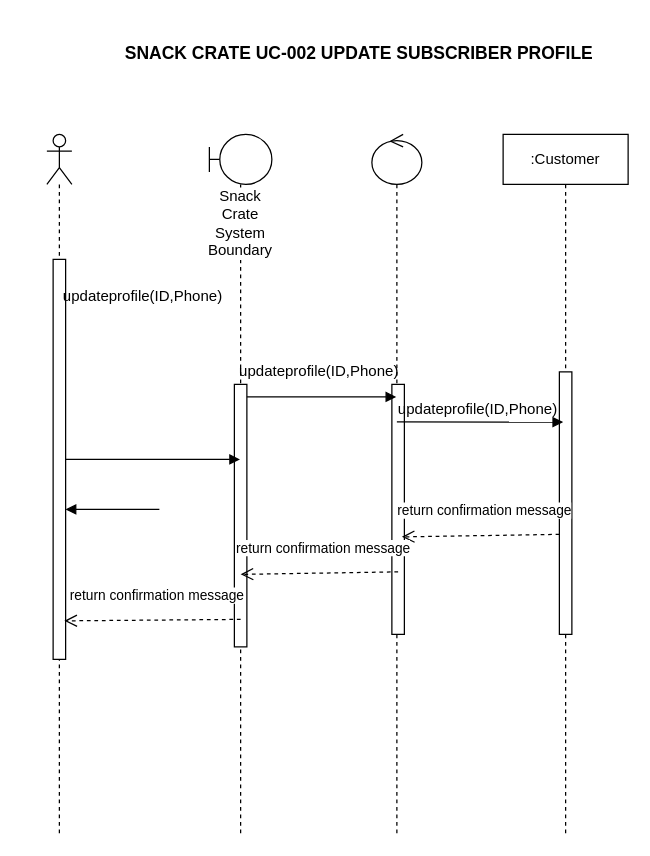
This 650x856 diagram has some shape labels left out. The shapes that lost their labels are listed below. From the top down, each one's box as (x1, y1, x2, y2) in pixels, then its label:
(46, 133, 72, 834): Subcription Clerk / Subscriber
(371, 133, 422, 834): Snack Crate Controller
